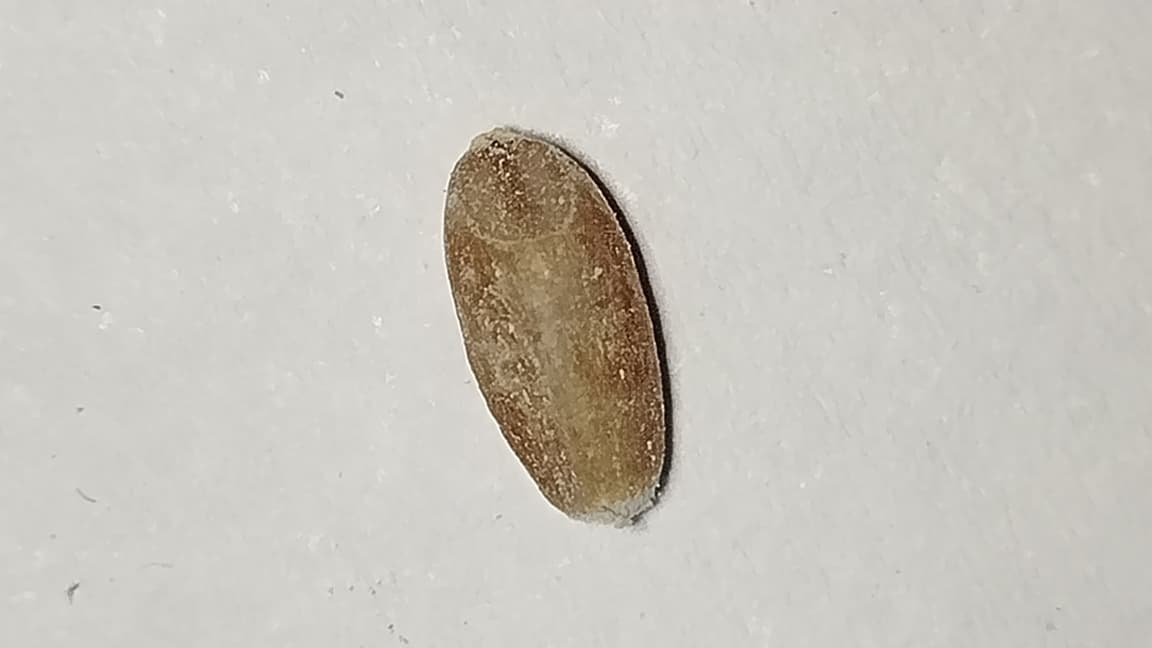staindamage: (445, 127, 674, 525)
